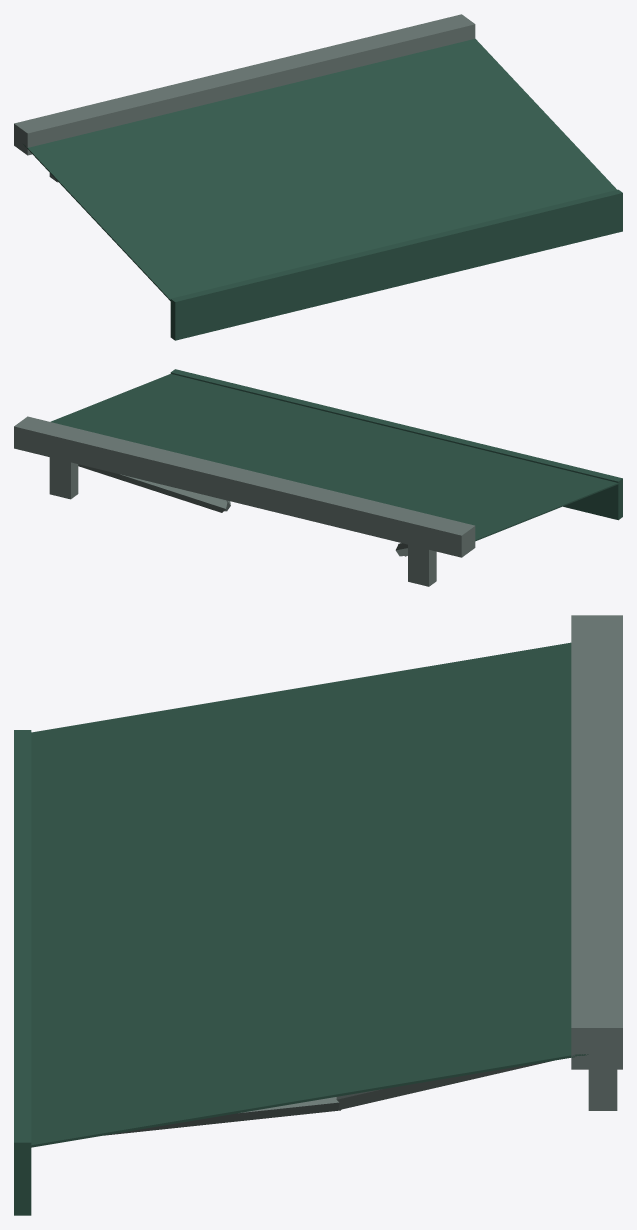
The picture shows the model from 3 angles, top to bottom: view 1: azimuth 30°, elevation 25°; view 2: azimuth 150°, elevation 25°; view 3: azimuth 270°, elevation 25°; orthographic projection. The views are drawn at different scales.
Visible parts, largest first — view 1: a60; view 2: a60; view 3: a60.
Part boxes in pixels (box(x1,y1,x2,y2)): a60: box(14, 14, 622, 340); a60: box(14, 369, 622, 586); a60: box(14, 615, 622, 1215).
Bounding box in the file's own units: 1.7 × 0.3905 × 1.06.
